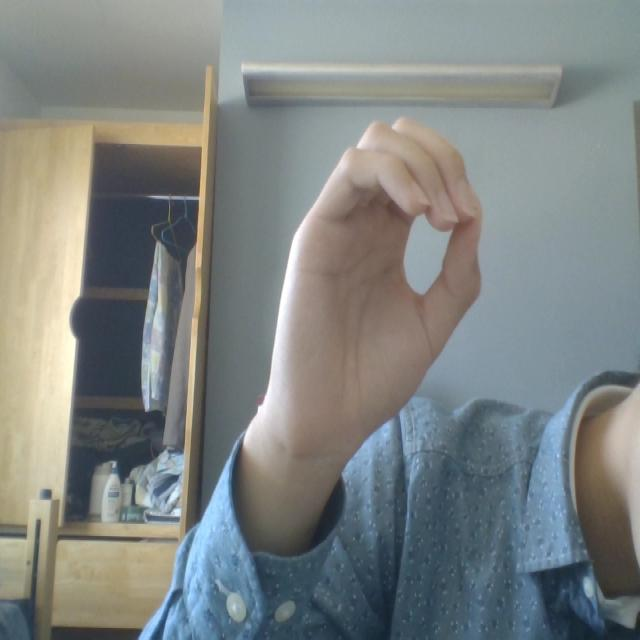O: (247, 92, 534, 480)
